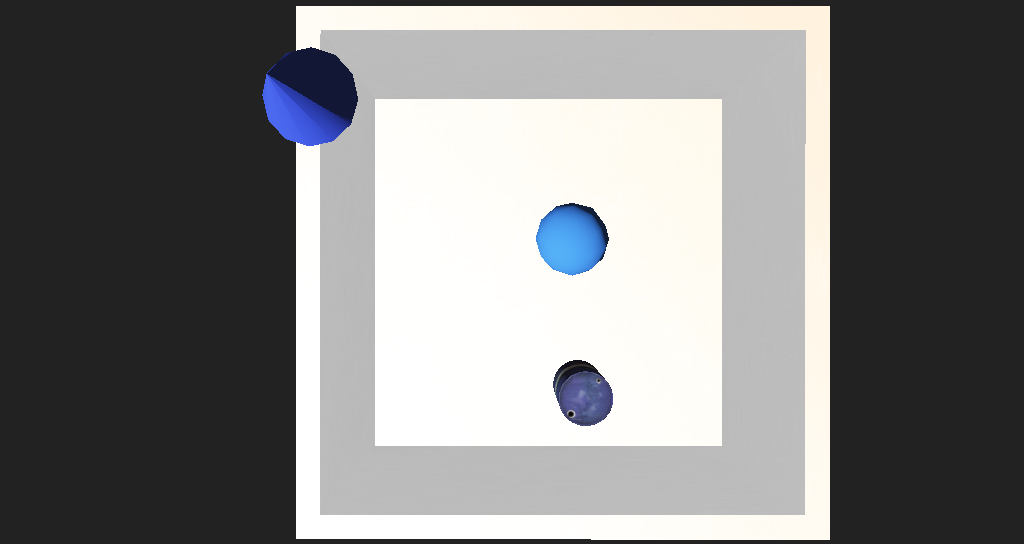cone: (515, 322, 563, 365)
cylinder: (216, 117, 337, 198)
sphere: (492, 227, 559, 270)
